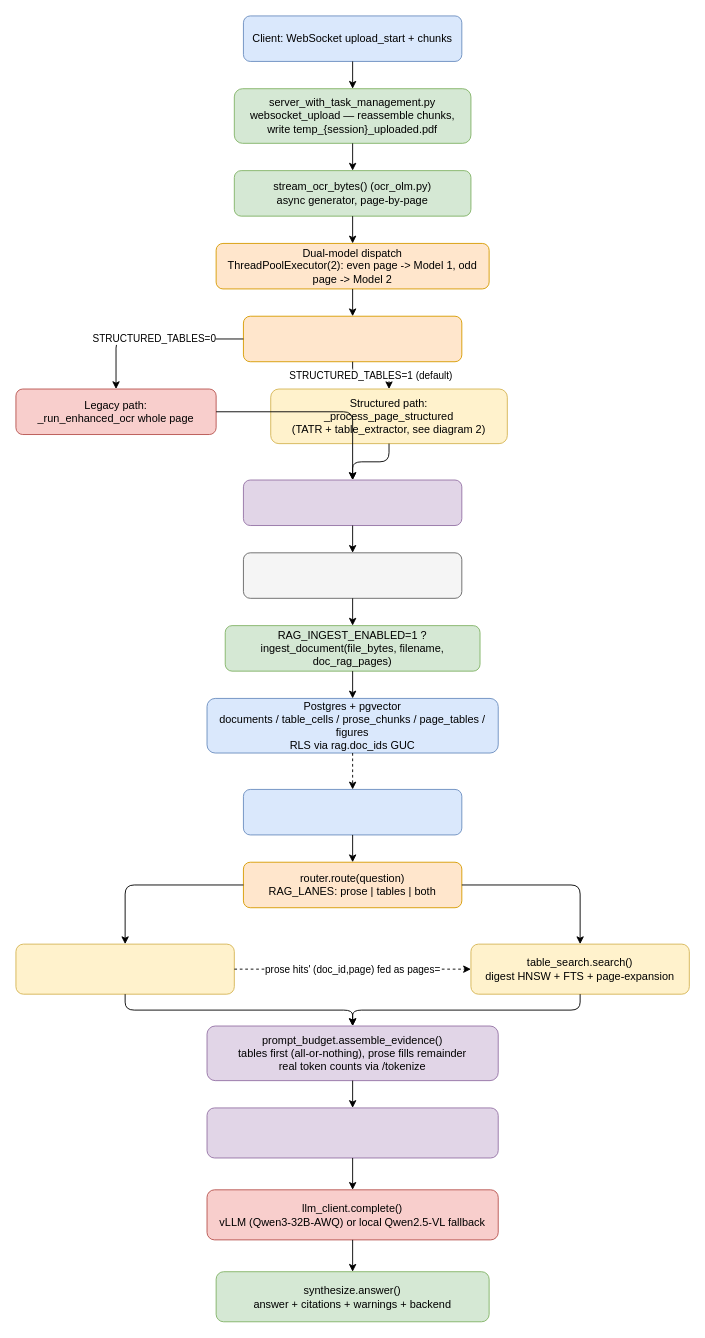
Some shapes in this 705 by 1338 pixel diagram are drawn without their labels. The centre of each missing label's shape, as x and y in pixels:
"_ocr_page(img, worker_id) STRUCTURED_TABLES toggle" belongs at (352,338).
"aggregate_guard.classify() not_aggregate / answerable / partial / unsupported" belongs at (352,1132).
"Per-page _rag payload { prose, structured, page_tables }" belongs at (352,502).
"Popped from lang_info before sending to browser (rag key never reaches frontend)" belongs at (352,575).
"prose_search.search() HNSW cosine + FTS fallback" belongs at (124,968).
"User question (RAG query)" belongs at (352,812).
